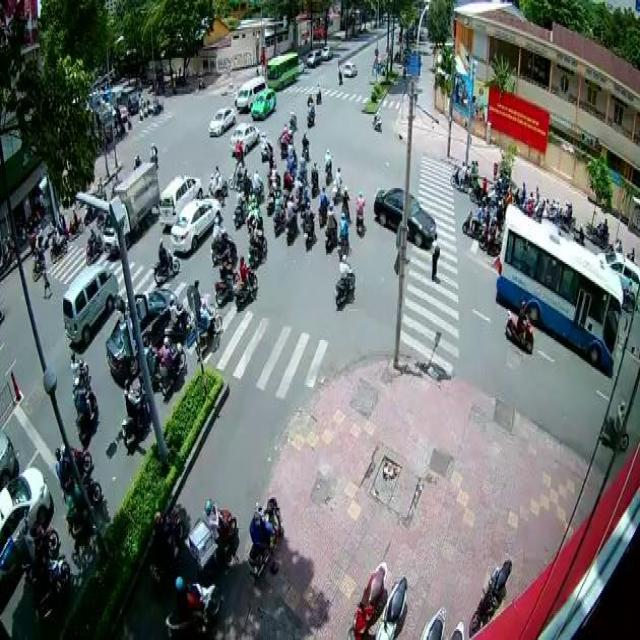bus: (496, 200, 622, 368)
car: (0, 465, 51, 575), (372, 184, 437, 252), (168, 193, 222, 250), (158, 172, 202, 222), (229, 121, 260, 156), (207, 106, 237, 136)
motorcycle: (202, 495, 236, 548), (504, 300, 534, 354), (232, 253, 257, 309), (152, 237, 180, 286), (334, 251, 356, 311), (302, 201, 317, 253), (323, 200, 336, 256), (336, 212, 351, 258), (354, 190, 366, 237)
truck: (60, 264, 118, 347), (114, 161, 159, 230)
